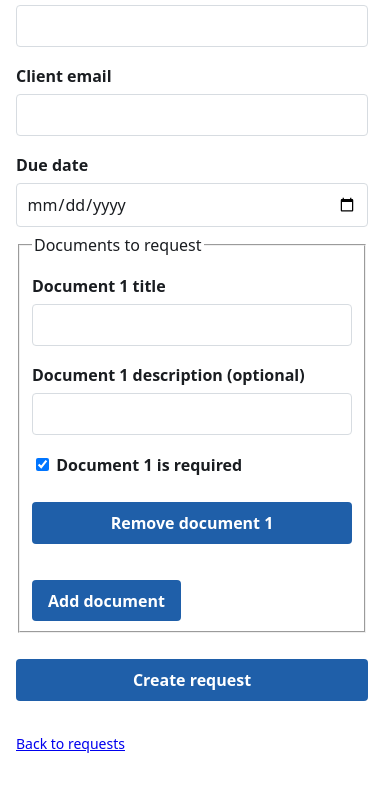
Test: CreateRequestPage › shows a message for the whole form when the failure names no field
The width and height of the screenshot is (385, 800).
(page scrolled)
Click the button "Create request" at [192, 680], box top-left (16, 659), bottom-right (368, 700)
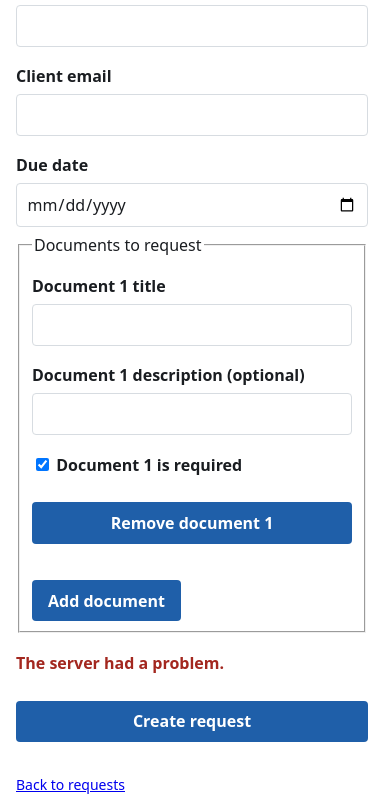
Expected: the message does not show "500", top-left (16, 652), bottom-right (224, 674)
Expected: the message reads "The server had a problem.", top-left (16, 652), bottom-right (224, 674)
